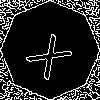X: (25, 25, 81, 81)
